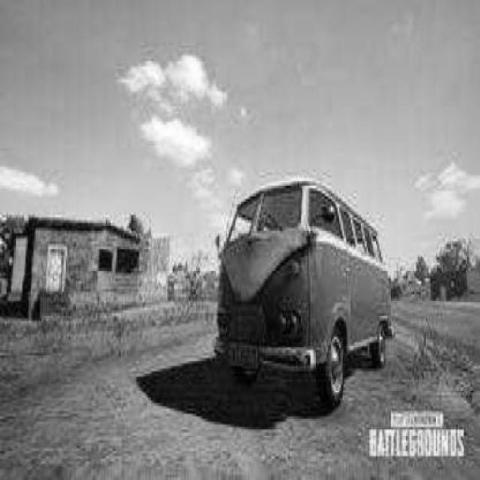van: (227, 176, 392, 404)
